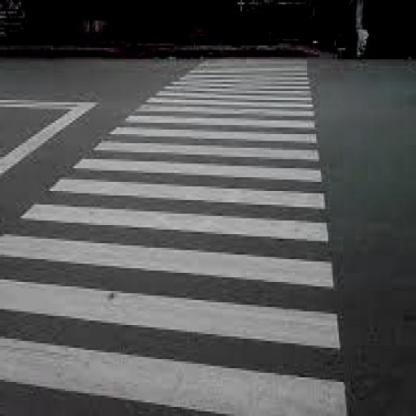crosswalk: (7, 176, 344, 246)
